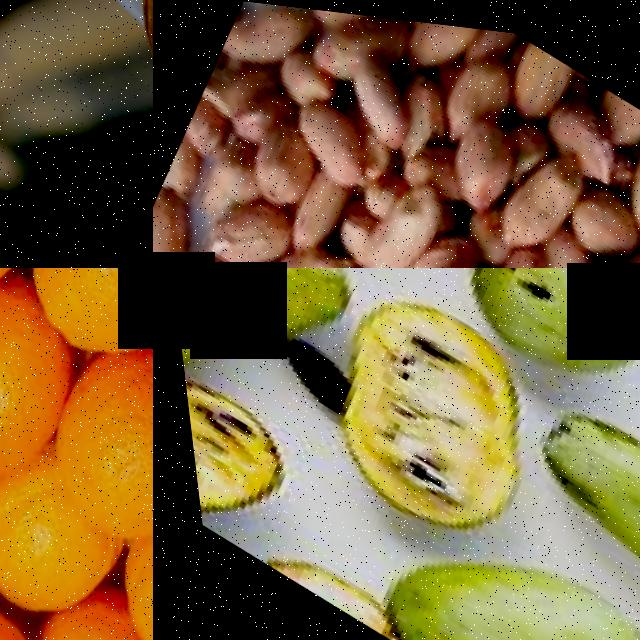onion: (57, 0, 153, 268)
orange: (14, 309, 153, 569), (0, 440, 127, 640), (0, 268, 96, 497), (0, 268, 153, 384), (72, 503, 153, 640)
peanuts: (478, 121, 597, 261), (335, 158, 450, 268), (429, 104, 526, 218), (426, 35, 521, 150), (530, 75, 634, 179), (326, 45, 429, 150), (275, 87, 380, 189), (229, 111, 325, 215), (184, 180, 294, 268), (551, 169, 640, 266), (153, 178, 211, 268), (601, 102, 640, 232), (530, 228, 640, 268), (460, 228, 569, 268), (386, 235, 494, 268)
